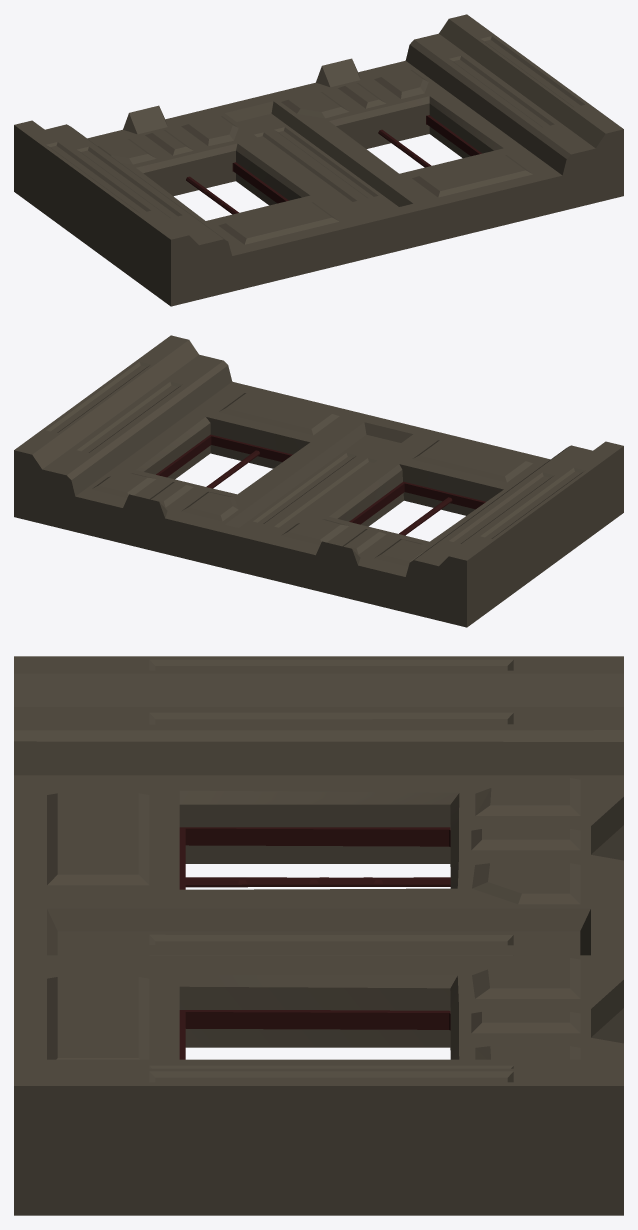
Rendered from P_F_DoubleWCadreSimpleSansW.fbx.
3 renders of one model, top to bottom at view 1: azimuth 30°, elevation 25°; view 2: azimuth 150°, elevation 25°; view 3: azimuth 270°, elevation 25°, orthographic. The views are drawn at different scales.
Visible parts, largest first — view 1: P_F_DoubleWCadreSimpleSansW; view 2: P_F_DoubleWCadreSimpleSansW; view 3: P_F_DoubleWCadreSimpleSansW.
Part boxes in pixels (x1,y1,x2,y2): P_F_DoubleWCadreSimpleSansW: [14, 14, 623, 306]; P_F_DoubleWCadreSimpleSansW: [14, 335, 623, 627]; P_F_DoubleWCadreSimpleSansW: [14, 656, 623, 1215].
Bounding box in the file's own units: 500 × 70.51 × 300.
